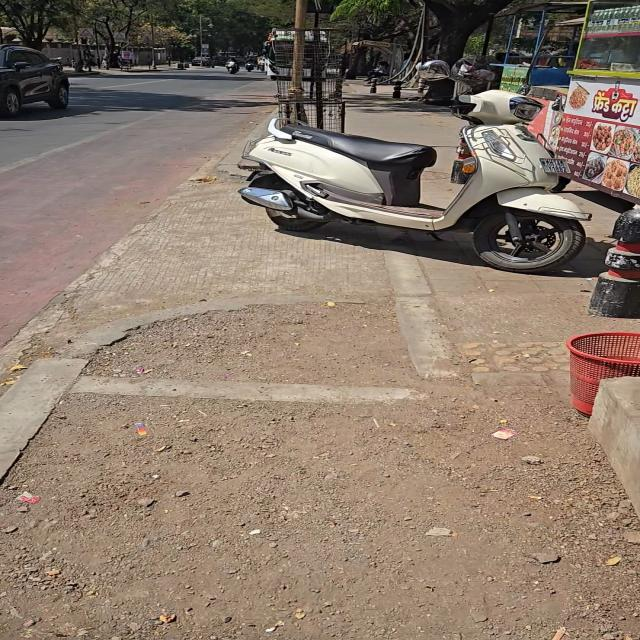obstacle: (86, 302, 435, 388), (588, 209, 639, 318), (290, 0, 307, 122), (291, 0, 307, 94), (450, 130, 472, 183), (504, 14, 517, 64), (421, 0, 429, 62), (482, 14, 494, 55), (151, 14, 157, 69), (392, 81, 401, 98), (200, 15, 203, 60), (418, 78, 426, 93), (370, 77, 377, 93)
vehicle: (239, 91, 590, 273), (226, 61, 238, 73)
